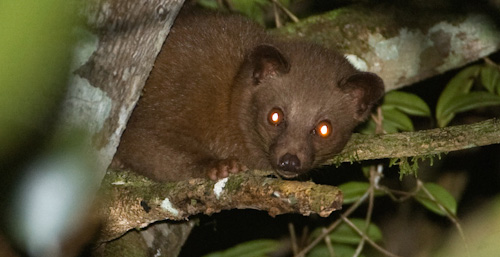Civet: (111, 8, 392, 189)
